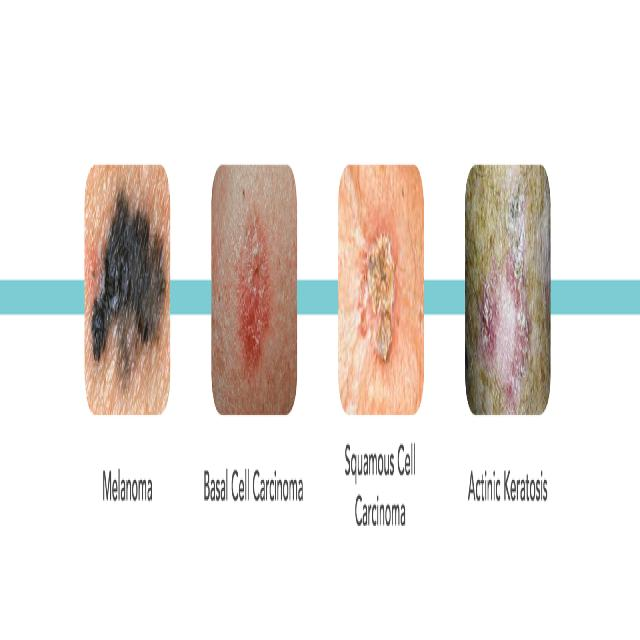Cancer: (90, 169, 167, 373), (474, 180, 533, 400), (353, 193, 407, 381), (233, 191, 273, 381)
